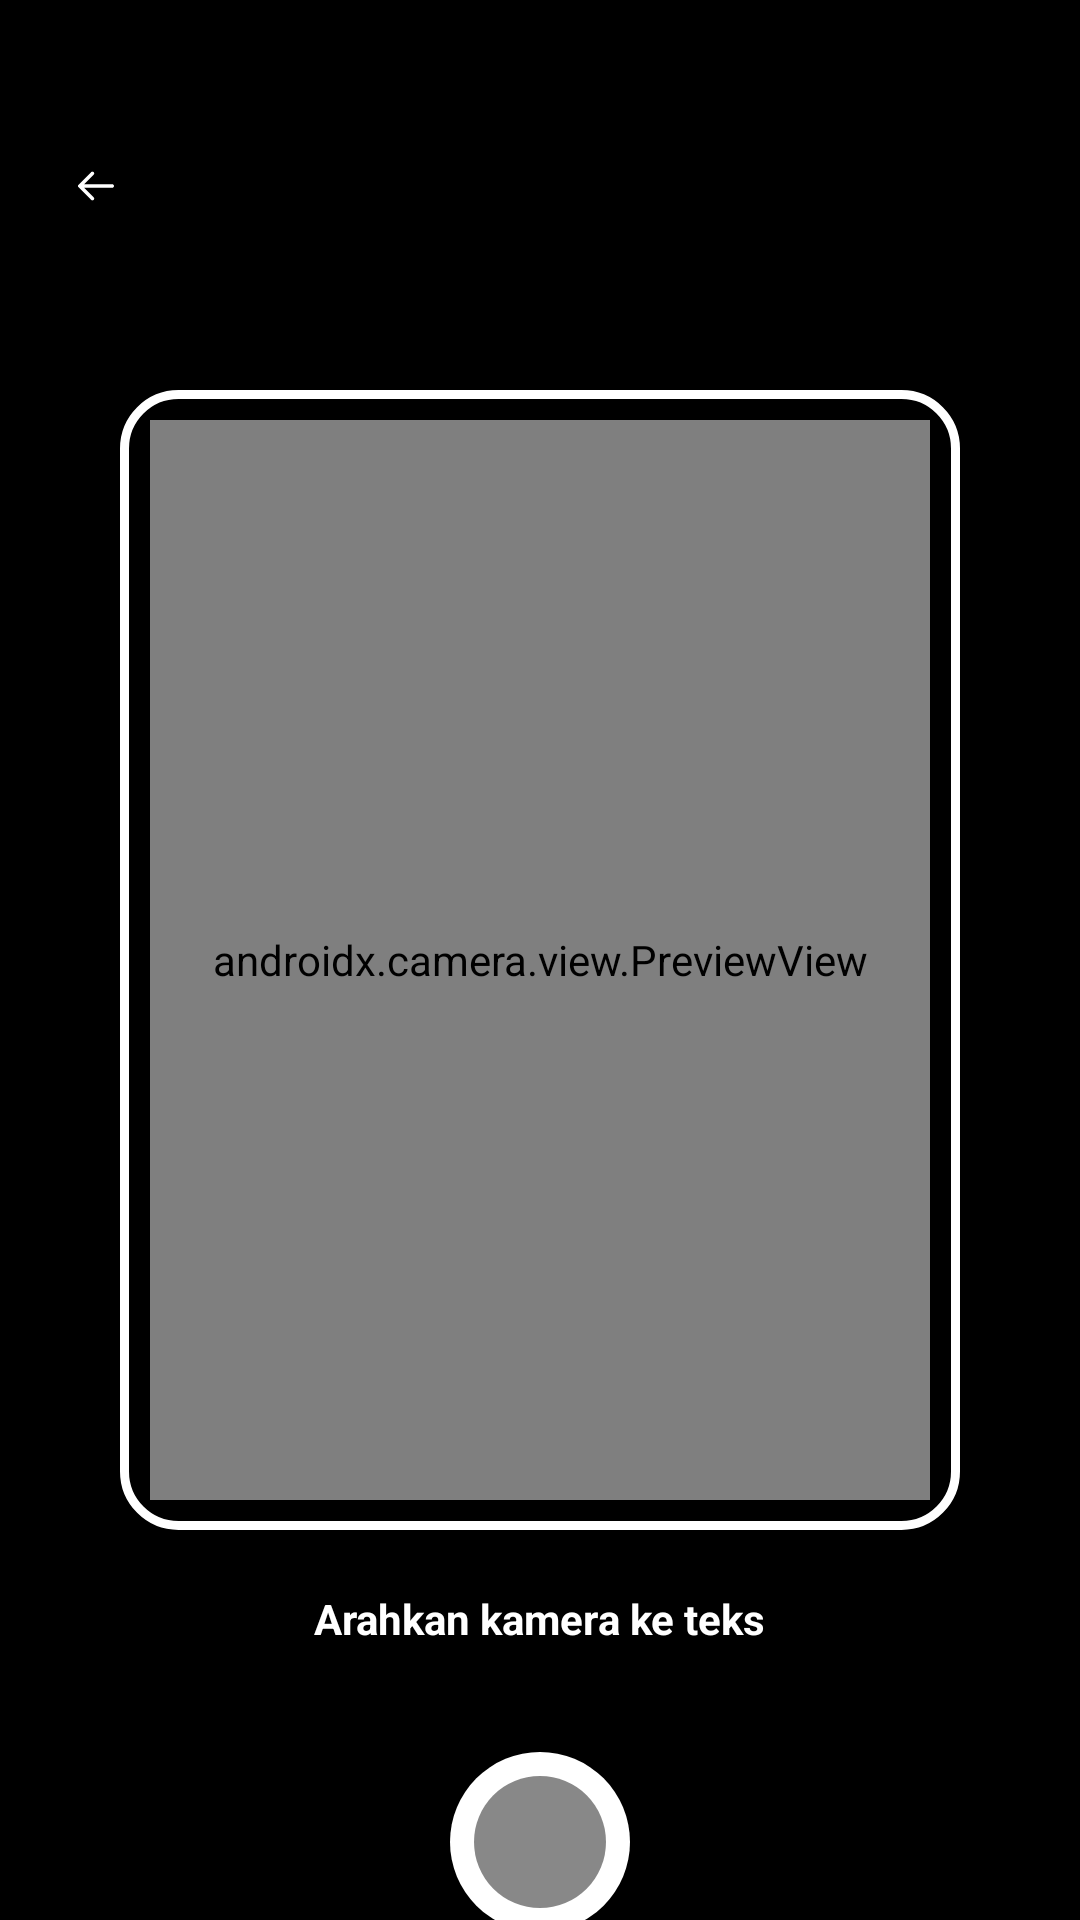

Where icons sit on this 1080w x 1920h app screen, as box=[x1, y1, x2, y2]:
back: box=[78, 171, 114, 201]
